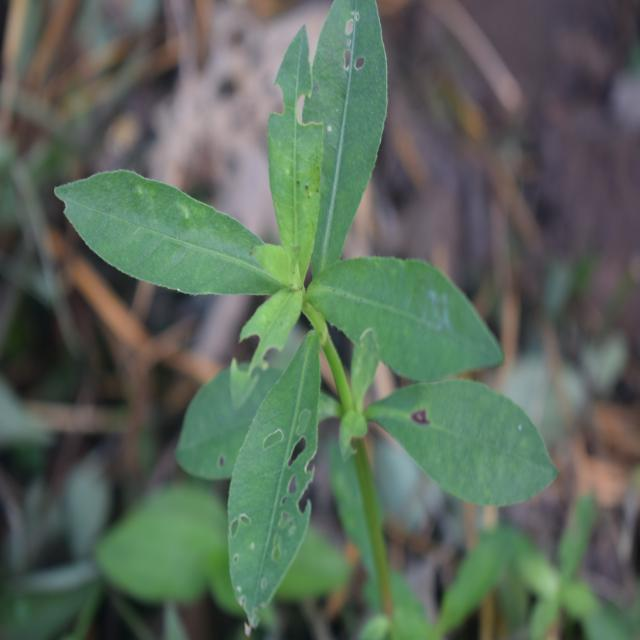Alligatorweed: (41, 0, 507, 540)
